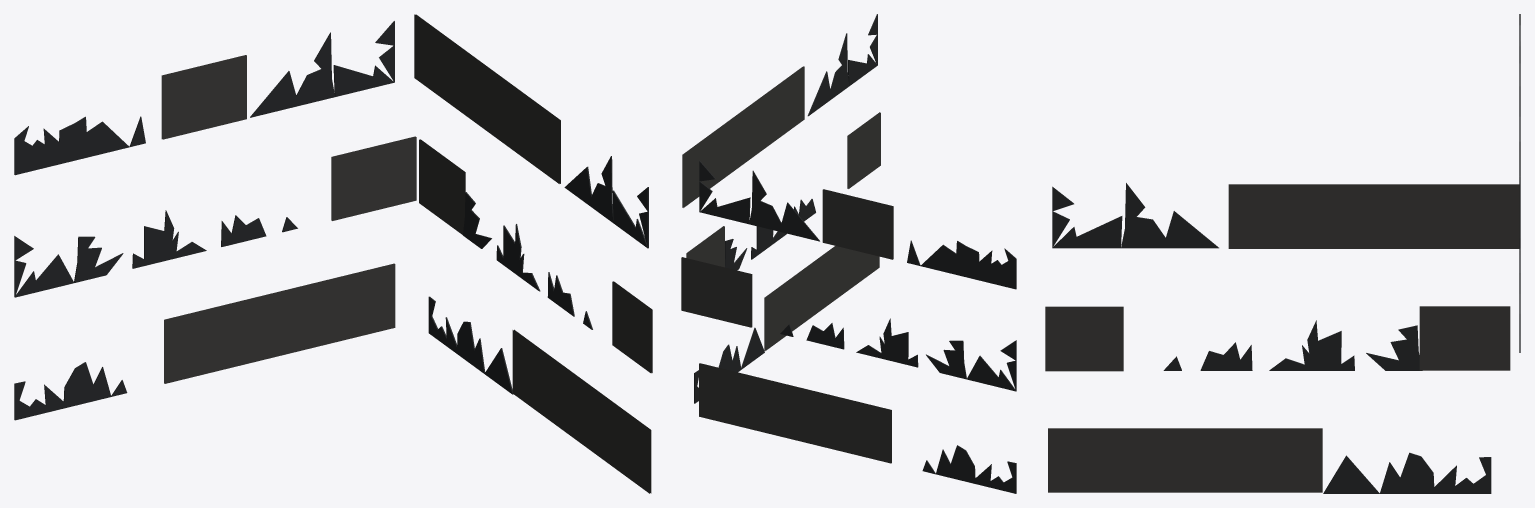
The model's file is SA_Building_Office_Damaged_Glass_01.gltf.
3 renders of one model, left to right at view 1: azimuth 30°, elevation 25°; view 2: azimuth 150°, elevation 25°; view 3: azimuth 270°, elevation 25°, orthographic. The views are drawn at different scales.
Visible parts, largest first — view 1: SA_Building_Office_Damaged_Glass_01; view 2: SA_Building_Office_Damaged_Glass_01; view 3: SA_Building_Office_Damaged_Glass_01.
Part boxes in pixels (x1,y1,x2,y2): SA_Building_Office_Damaged_Glass_01: (14,14,652,493); SA_Building_Office_Damaged_Glass_01: (681,14,1016,493); SA_Building_Office_Damaged_Glass_01: (1045,14,1520,493).
Size of the model in its own units: 12.38 by 9.16 by 12.69.
1 material, 1 textured.
